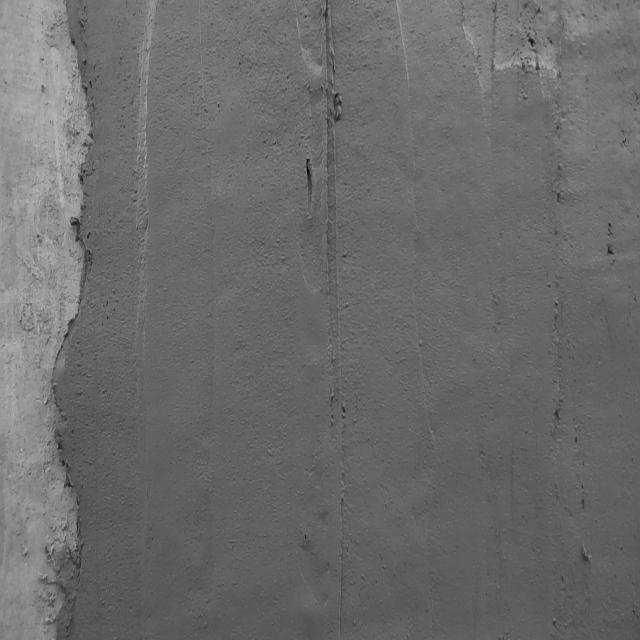trowels marks: (319, 7, 350, 640)
